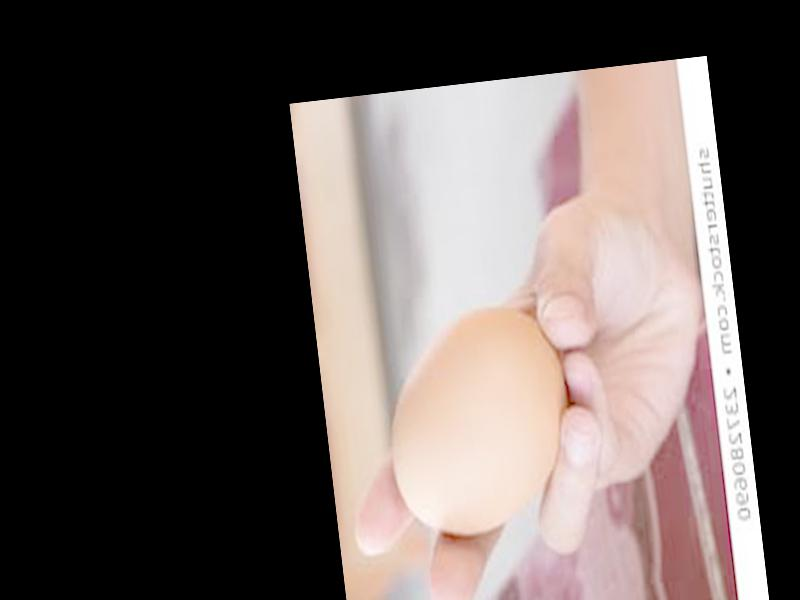Eggs: (378, 303, 579, 545)
